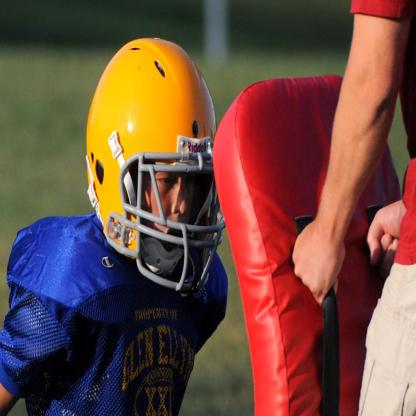Helmet: (85, 34, 227, 293)
